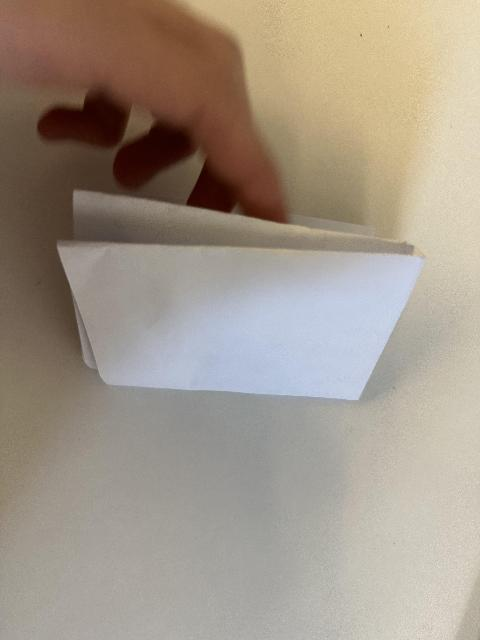Kagit: (57, 188, 424, 402)
